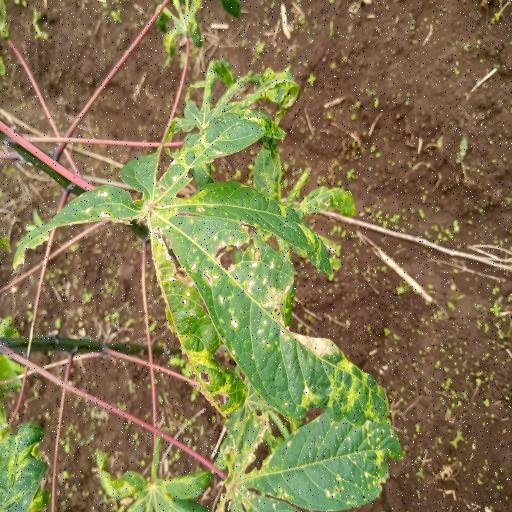Cassava_Mosaic: (54, 94, 396, 452)
